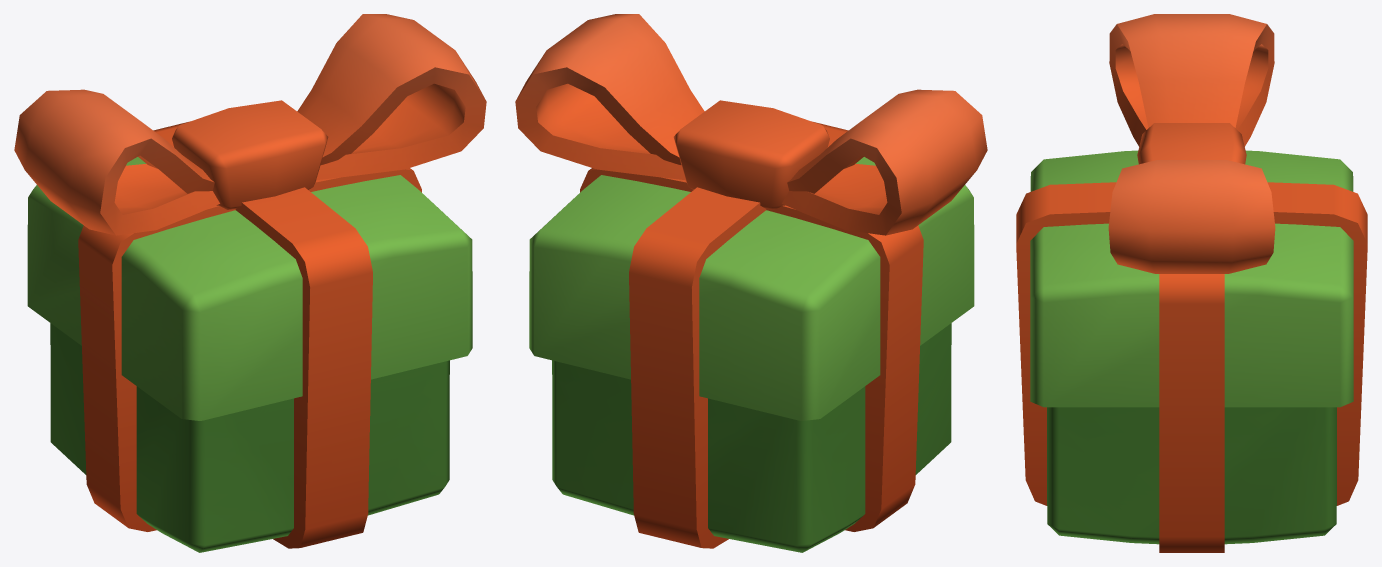
The model's file is Present_006.fbx.
The picture shows the model from 3 angles, left to right: view 1: azimuth 30°, elevation 25°; view 2: azimuth 150°, elevation 25°; view 3: azimuth 270°, elevation 25°; orthographic projection. The views are drawn at different scales.
Parts seen in each view (by area): view 1: Present_006; view 2: Present_006; view 3: Present_006.
Part boxes in pixels (x1,y1,x2,y2): Present_006: [14, 14, 486, 552]; Present_006: [515, 14, 987, 552]; Present_006: [1016, 14, 1367, 552].
Size of the model in its own units: 0.5652 by 0.5698 by 0.4392.
